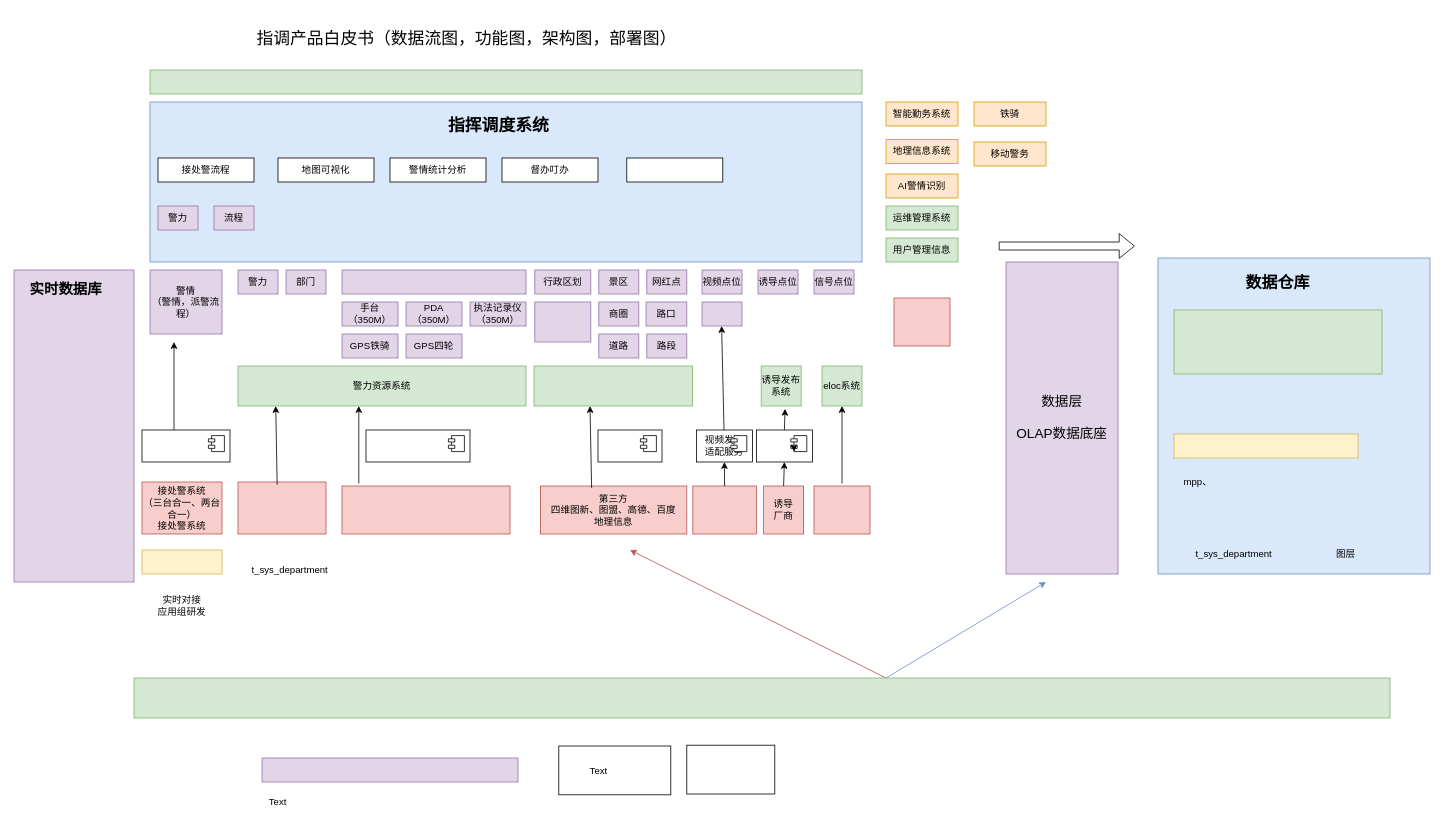
This 1444x827 diagram has some shape labels left out. The box of each missing label's shape, as (x1, y1, x2, y2) in pixels:
GPS定位适配服务: (365, 429, 470, 462)
GPS硬件定位厂商: (341, 485, 510, 534)
mpp（greenplum，gaussdb）、: (1173, 433, 1358, 458)
shape， 或csv: (597, 429, 662, 462)
信号厂商: (813, 485, 870, 534)
六合一 警员、部门: (237, 481, 326, 534)
地图适配 （地图api）: (893, 297, 950, 346)
地理信息系统（有漏动！） EHL_MapDataForPOSTGIS: (533, 365, 692, 406)
实时数据 数据层 交通数据底座 (OLTP） mysql，postgis: (13, 269, 134, 582)
指调、勤务、铁骑、移动警务-------同一个数据库连接: (261, 757, 518, 782)
数据接入，清洗，治理、分析 ods，dim，dm层，: (1173, 309, 1382, 374)
梳理、接入（数据组带头）: (133, 677, 1390, 718)
视频厂商: (692, 485, 756, 534)
视频流: (701, 301, 742, 326)
警力定位数据: (341, 269, 526, 294)
警务APP: (149, 69, 862, 94)
警区区划 （支队、大队、中队）: (534, 301, 591, 342)
警情适配服务: (141, 429, 230, 462)
诱导发布 适配服务: (756, 429, 812, 462)
迪艾斯，科瑞信， 天源迪科等厂商: (141, 549, 222, 574)
